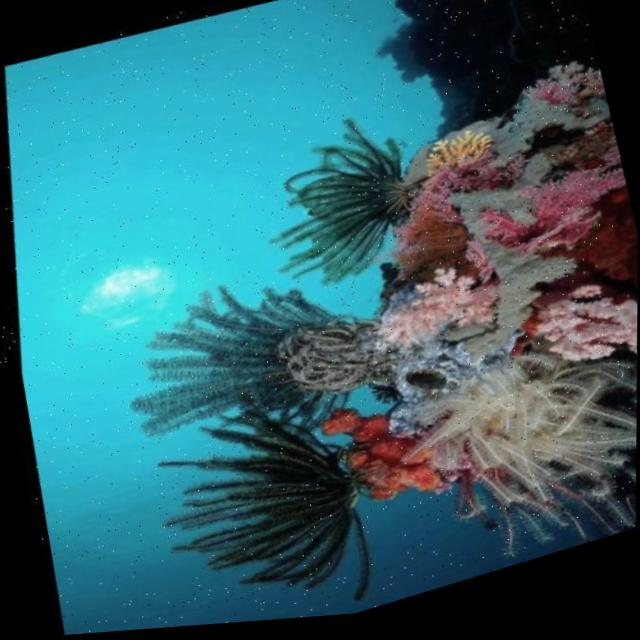Healthy Coral: (75, 0, 640, 635)
